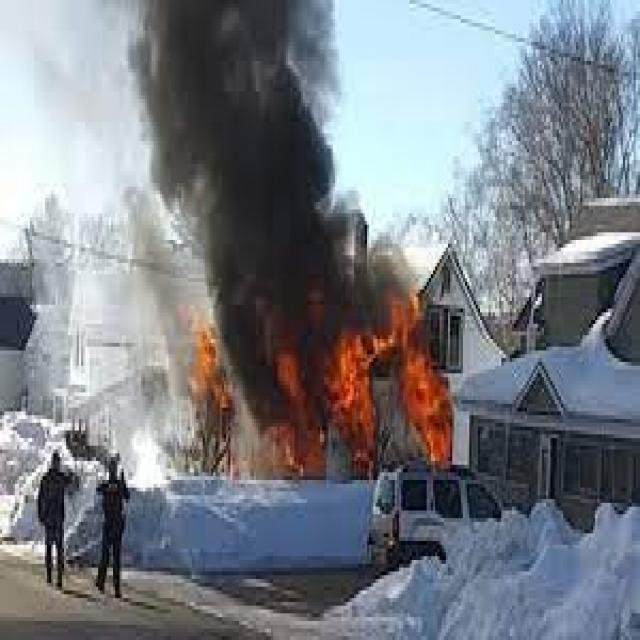fire: (326, 294, 456, 476), (192, 324, 222, 411)
smoke: (124, 4, 414, 331), (226, 4, 327, 472)
